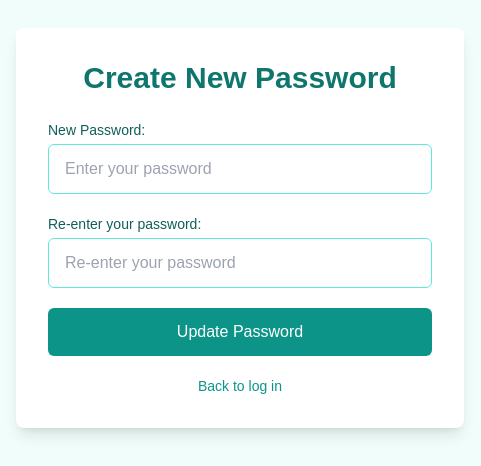
Test: New Password page test › Should not let users submit with unmatching passwords
This screenshot has width=481, height=466.
Type "validPassword1!" into the password field labelled "New Password:" at point(240, 169), box [48,144,432,194]
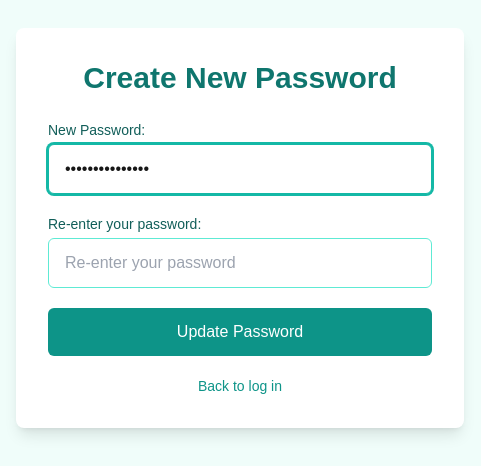
Type "validPassword2!" into the password field with id "re-enter-password" at point(240, 263), box [48,238,432,288]
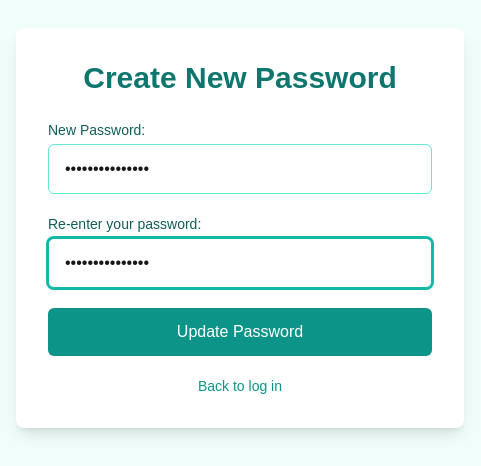
Click the submit button at point(240, 332), box [48,308,432,356]
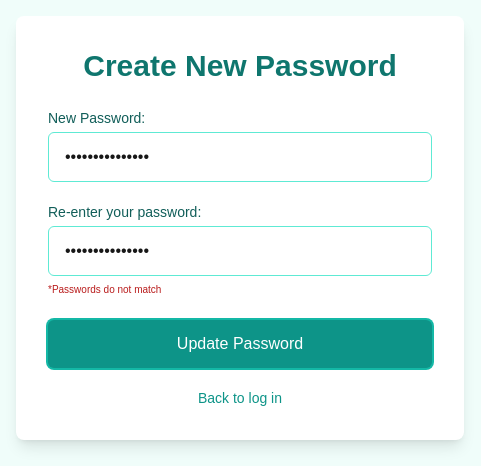
Result: the text "*Passwords do not match" is shown at [48,282,161,297]
